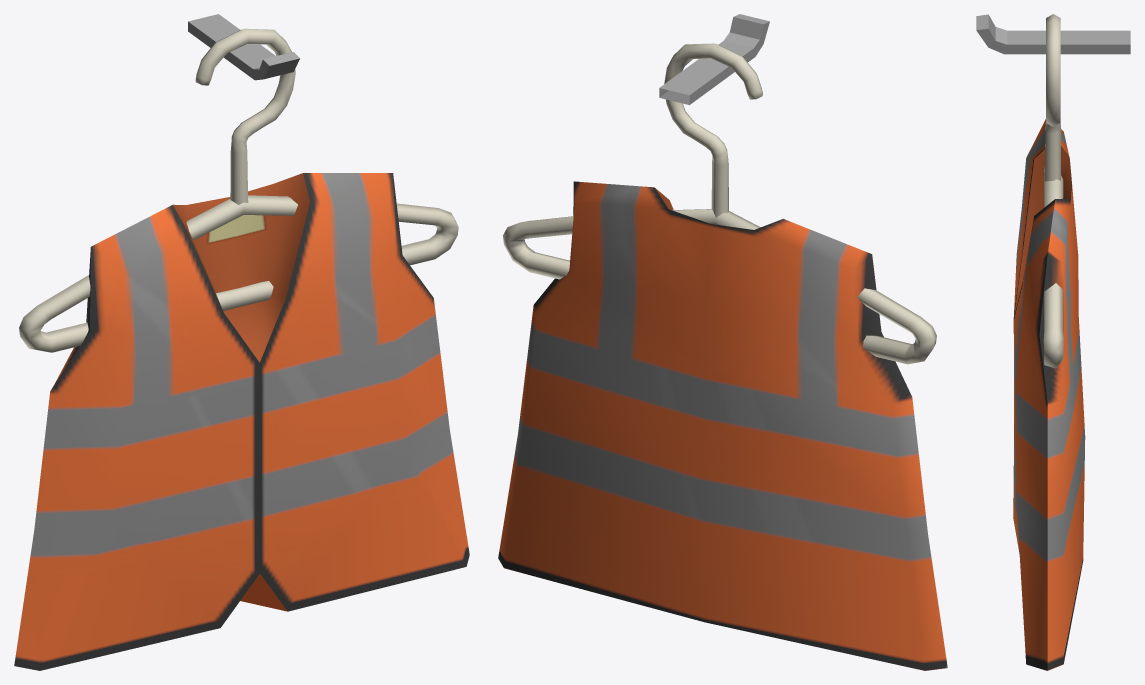
Rendered from factory_work_vest_wall_decor_01.FBX.
3 views of the same model, side by side, from view 1: azimuth 30°, elevation 25°; view 2: azimuth 150°, elevation 25°; view 3: azimuth 270°, elevation 25° (orthographic). The views are drawn at different scales.
Visible parts, largest first — view 1: Box023; view 2: Box023; view 3: Box023.
Part boxes in pixels (x1,y1,x2,y2): Box023: (14, 14, 469, 670); Box023: (498, 14, 947, 670); Box023: (976, 14, 1130, 670).
Bounding box in the file's own units: 13.37 × 4.15 × 16.23.
